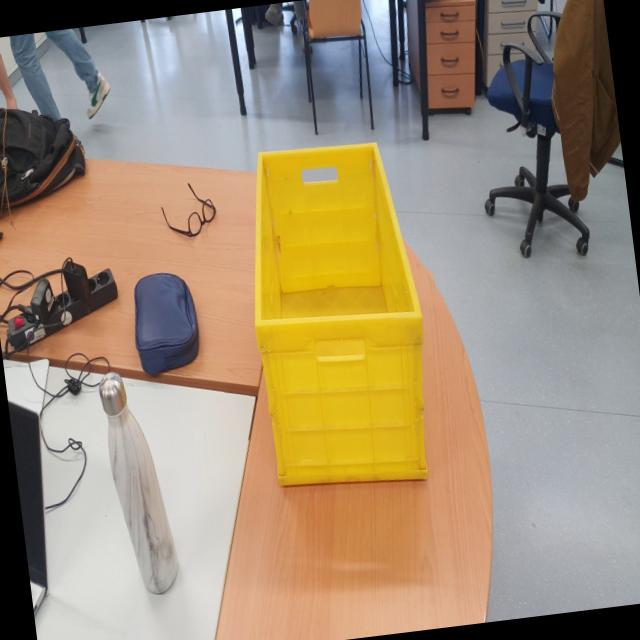box: (222, 127, 446, 502)
